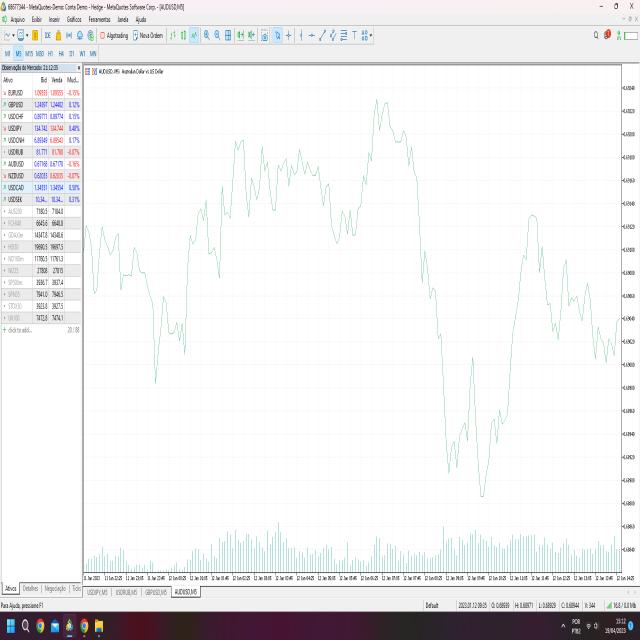fundo_duplo: (412, 208, 534, 517)
